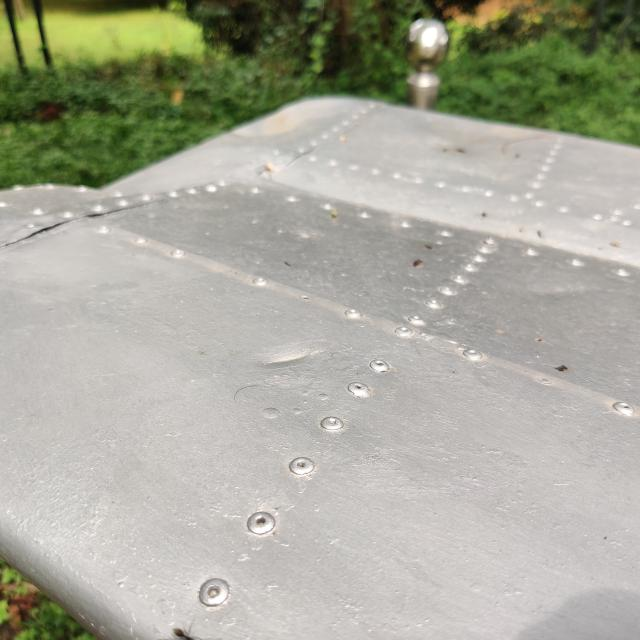dent: (239, 318, 335, 403)
